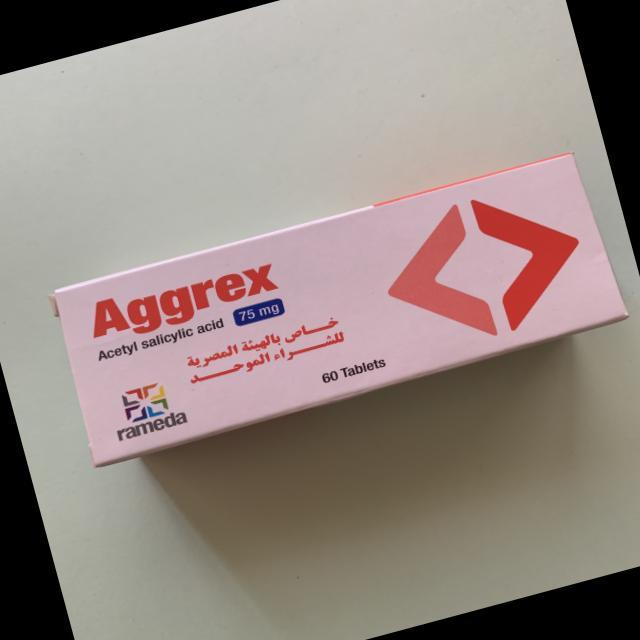Medicine Name: (75, 245, 299, 350)
